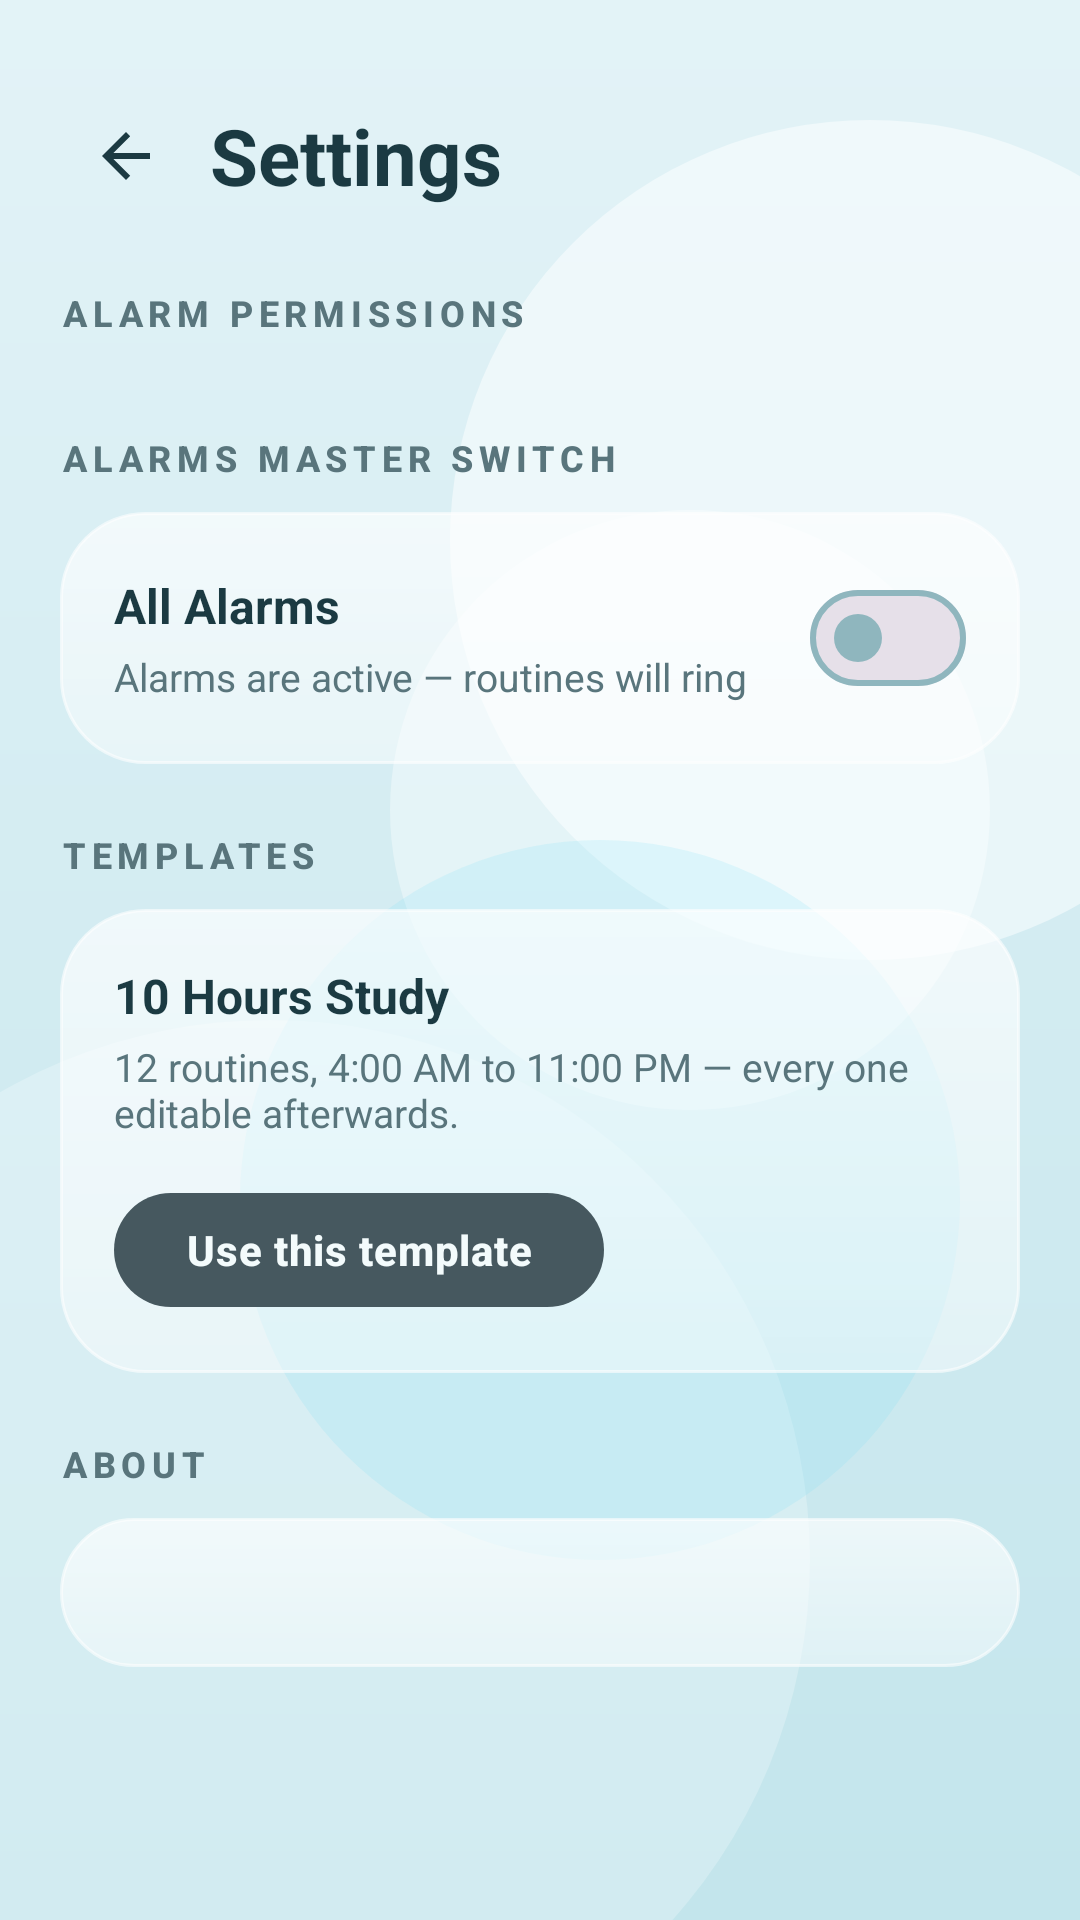

Named icons in this screenshot (1080×1920) and their centers, [x,y]:
Back: [126,156]
